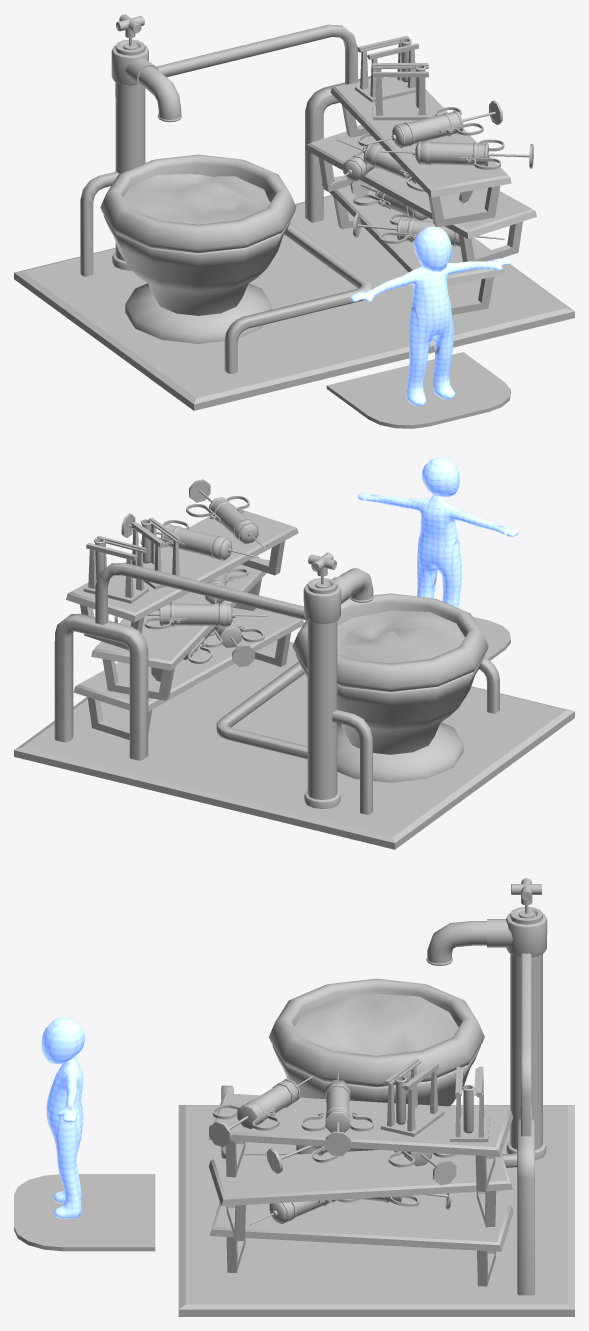
The model's file is MutantCreator (1).fbx.
3 renders of one model, top to bottom at view 1: azimuth 30°, elevation 25°; view 2: azimuth 150°, elevation 25°; view 3: azimuth 270°, elevation 25°, orthographic. The views are drawn at different scales.
Visible parts, largest first — view 1: MutantCreator; view 2: MutantCreator; view 3: MutantCreator.
Boxes of the visible parts, x1=… form: MutantCreator: x1=14, y1=14, x2=574, y2=428; MutantCreator: x1=14, y1=457, x2=574, y2=849; MutantCreator: x1=14, y1=878, x2=574, y2=1316.
Size of the model in its own units: 284 by 181 by 329.
